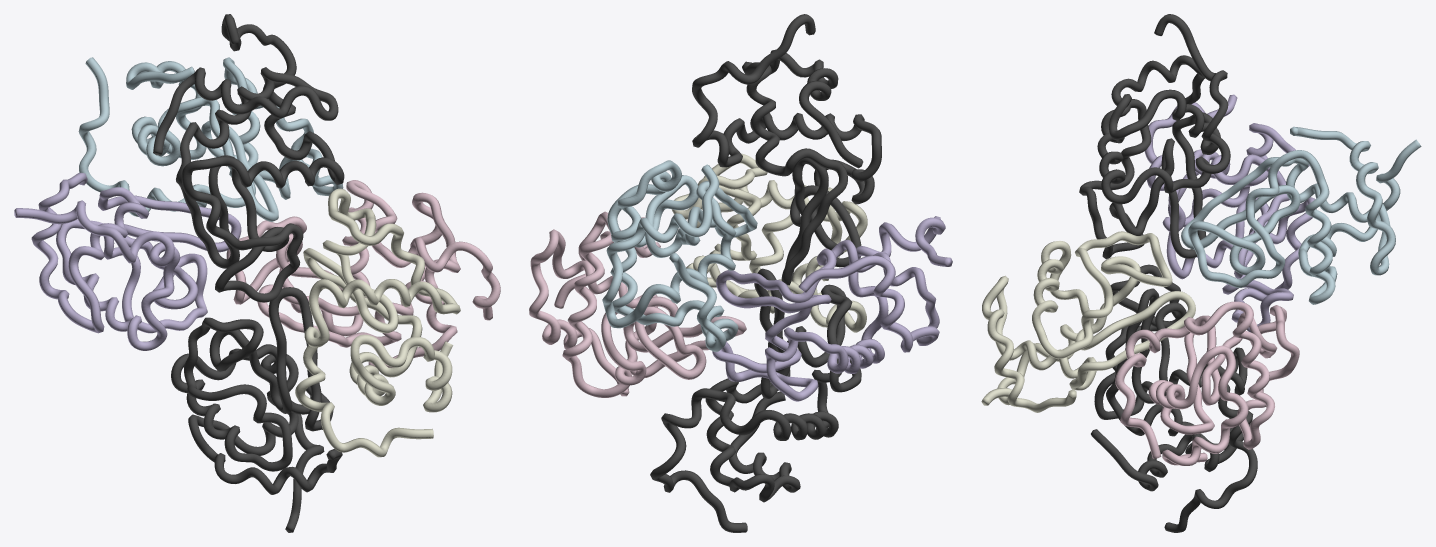
The model's file is bands.high.glb.
3 views of the same model, side by side, from view 1: azimuth 30°, elevation 25°; view 2: azimuth 150°, elevation 25°; view 3: azimuth 270°, elevation 25° (orthographic). The views are drawn at different scales.
Parts seen in each view (by area): view 1: geo1.002; view 2: geo1.002; view 3: geo1.002.
Part boxes in pixels (x1,y1,x2,y2): geo1.002: (14,14,500,532); geo1.002: (529,14,952,532); geo1.002: (981,14,1421,532).
Bounding box in the file's own units: 75.99 × 88.34 × 72.05.
